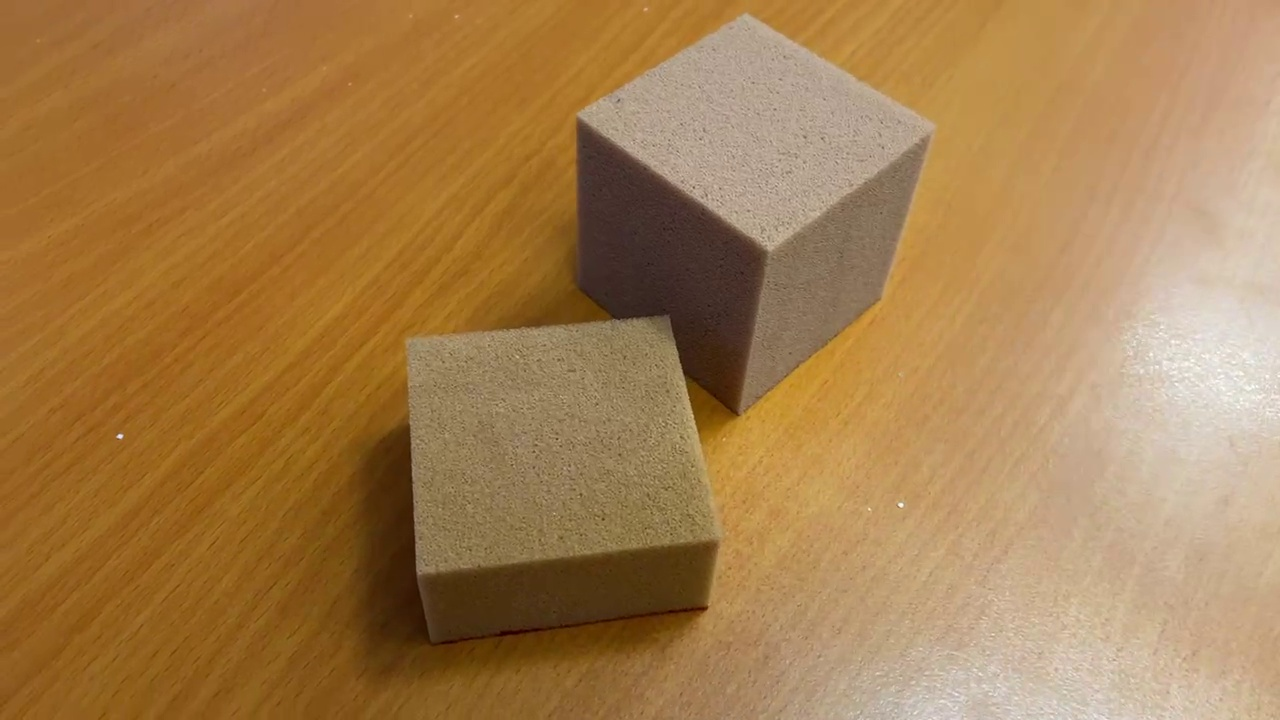Cube: (568, 1, 937, 422)
Cube_short: (393, 313, 721, 649)
